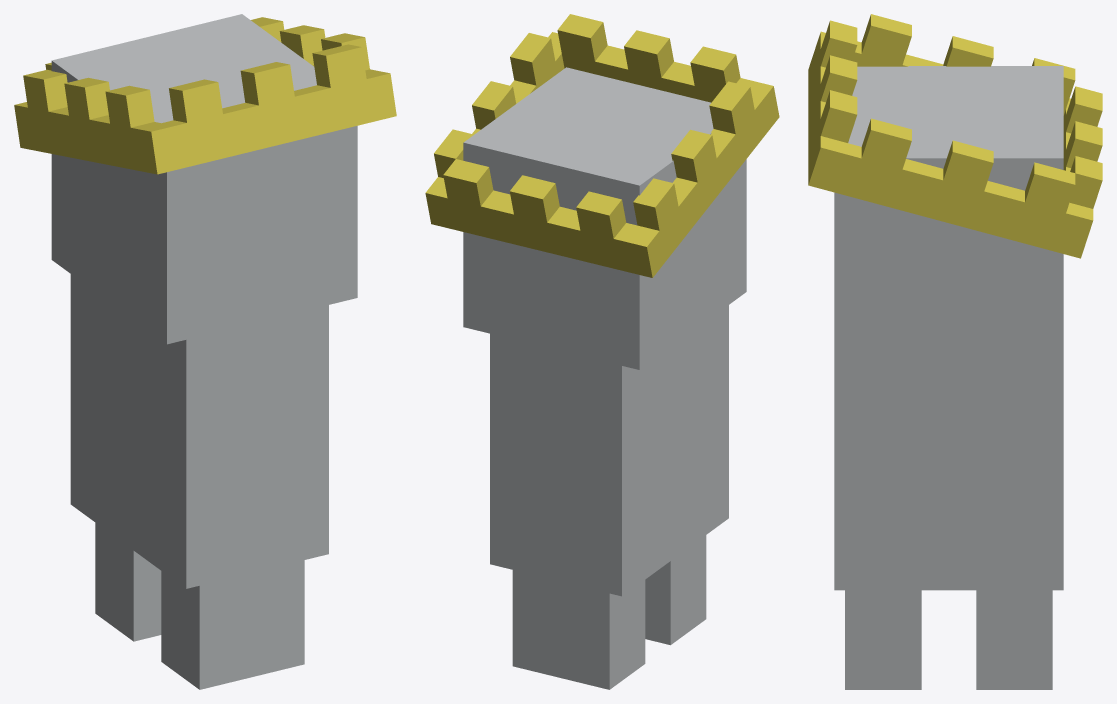
File: characterBare.glb
3 renders of one model, left to right at view 1: azimuth 30°, elevation 25°; view 2: azimuth 150°, elevation 25°; view 3: azimuth 270°, elevation 25°, orthographic. The views are drawn at different scales.
Visible parts, largest first — view 1: Mesh_Mesh_head_geo.001_lambert2SG.001; view 2: Mesh_Mesh_head_geo.001_lambert2SG.001; view 3: Mesh_Mesh_head_geo.001_lambert2SG.001.
Boxes of the visible parts, x1,y1,x2,y2 form: Mesh_Mesh_head_geo.001_lambert2SG.001: [14, 14, 396, 689]; Mesh_Mesh_head_geo.001_lambert2SG.001: [425, 14, 779, 689]; Mesh_Mesh_head_geo.001_lambert2SG.001: [808, 14, 1102, 689].
Bounding box in the file's own units: 25.12 × 61.26 × 26.92.
